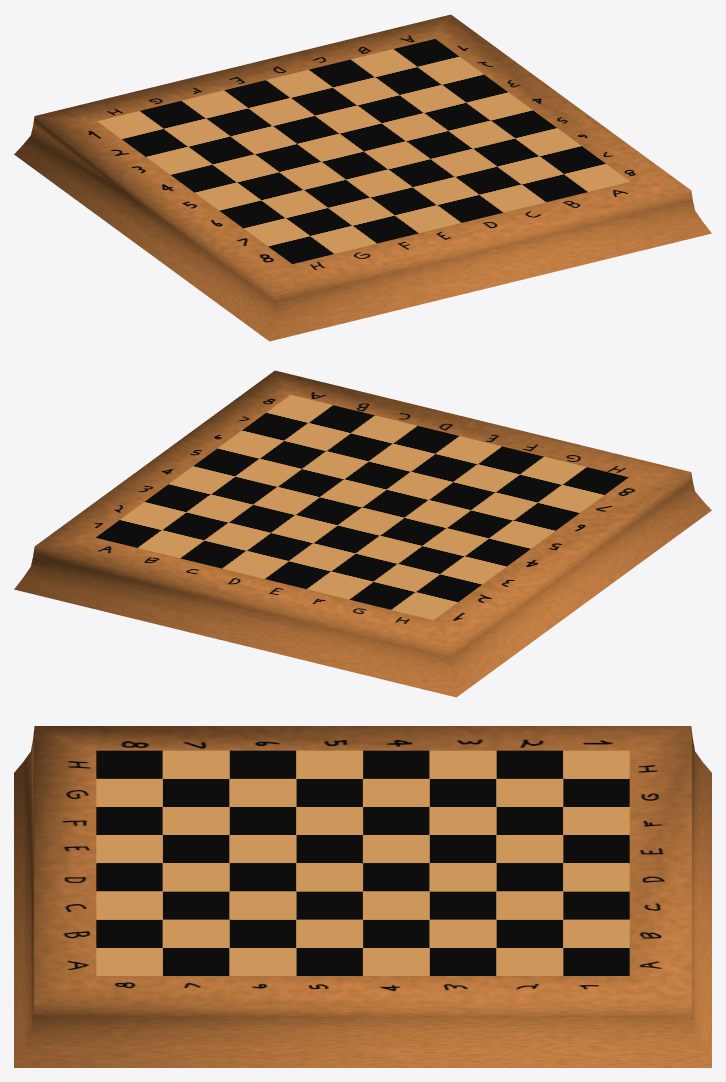
Rendered from Tabulero.fbx.
3 views of the same model, one above another, from view 1: azimuth 30°, elevation 25°; view 2: azimuth 150°, elevation 25°; view 3: azimuth 270°, elevation 25° (orthographic). The views are drawn at different scales.
Visible parts, largest first — view 1: Cube, Cube.001; view 2: Cube, Cube.001; view 3: Cube.001, Cube.
Part boxes in pixels (x1=…): Cube: x1=14, y1=14, x2=711, y2=341; Cube.001: x1=97, y1=39, x2=630, y2=263; Cube: x1=14, y1=370, x2=711, y2=697; Cube.001: x1=95, y1=395, x2=628, y2=619; Cube.001: x1=96, y1=750, x2=629, y2=975; Cube: x1=14, y1=726, x2=711, y2=1067.
Bounding box in the file's own units: 2070 × 189 × 2070.
